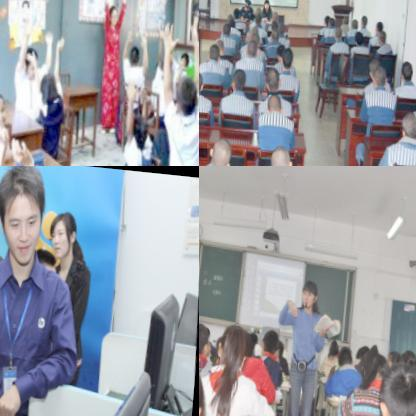head: (0, 166, 51, 264), (382, 352, 416, 416), (47, 205, 79, 258), (221, 320, 254, 366), (170, 59, 199, 108), (199, 353, 217, 416), (368, 340, 395, 378), (212, 129, 239, 166), (271, 137, 298, 166), (23, 40, 42, 78), (132, 109, 152, 145), (265, 323, 286, 357), (39, 67, 60, 99), (199, 325, 217, 360), (0, 87, 13, 135), (341, 339, 361, 365), (400, 99, 416, 131), (303, 276, 320, 306), (266, 60, 284, 87), (280, 40, 297, 68), (269, 87, 287, 112), (233, 61, 250, 87), (107, 0, 123, 26), (401, 49, 416, 75), (129, 39, 144, 64), (208, 38, 225, 60), (375, 59, 391, 82), (177, 41, 190, 64), (371, 50, 384, 73), (214, 32, 229, 51), (332, 333, 346, 353), (199, 65, 208, 92), (275, 37, 288, 55), (375, 12, 387, 30), (247, 37, 260, 53), (355, 21, 367, 38), (271, 20, 281, 36), (335, 18, 345, 34), (223, 17, 233, 32), (256, 8, 266, 23), (378, 22, 388, 37), (252, 27, 262, 41), (351, 10, 361, 24), (324, 6, 334, 20), (279, 15, 288, 30), (360, 8, 370, 21), (329, 9, 337, 24), (230, 12, 238, 26), (271, 4, 281, 15), (270, 12, 280, 23), (234, 1, 242, 13), (343, 7, 351, 19), (253, 20, 260, 32), (263, 0, 273, 8), (248, 25, 256, 35), (243, 0, 254, 7), (196, 46, 199, 71), (229, 9, 236, 19), (256, 1, 263, 11)
